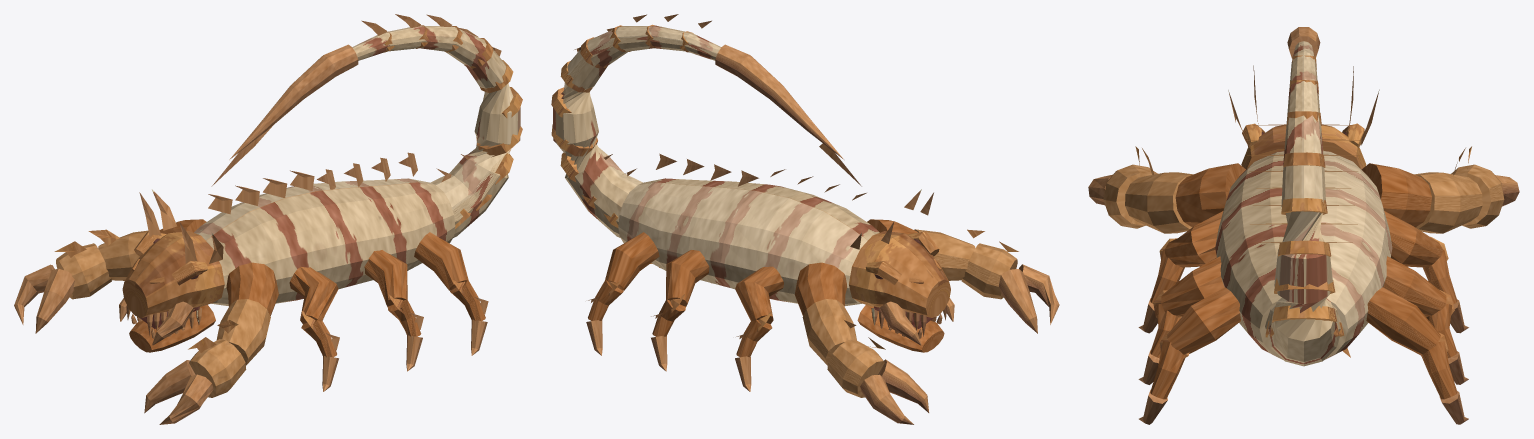
The model's file is serracorion-v01-anatomical-blockout.glb.
The picture shows the model from 3 angles, left to right: view 1: azimuth 30°, elevation 25°; view 2: azimuth 150°, elevation 25°; view 3: azimuth 270°, elevation 25°; orthographic projection. The views are drawn at different scales.
Visible parts, largest first — view 1: Serracorion_v01_Anatomical_Faceted; view 2: Serracorion_v01_Anatomical_Faceted; view 3: Serracorion_v01_Anatomical_Faceted.
Boxes of the visible parts, x1,y1,x2,y2 form: Serracorion_v01_Anatomical_Faceted: (14,14,522,424); Serracorion_v01_Anatomical_Faceted: (551,14,1059,424); Serracorion_v01_Anatomical_Faceted: (1088,27,1519,424).
Bounding box in the file's own units: 14.83 × 9.86 × 10.22.
Materials: 1 (1 with a texture image).
